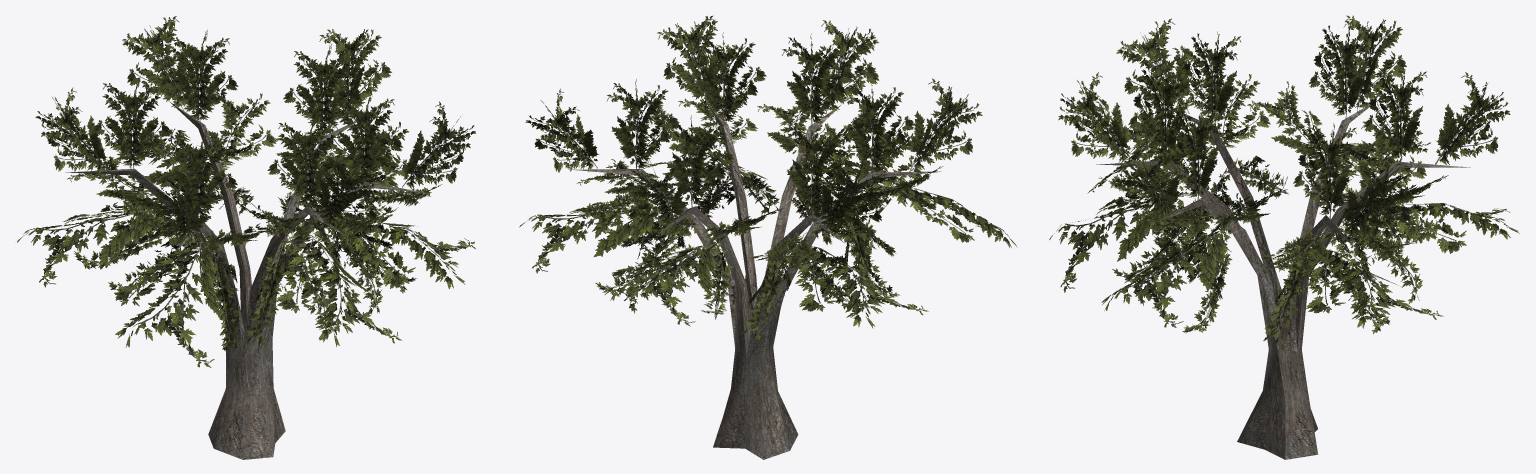
File: Sharp_Maple06.gltf
3 views of the same model, side by side, from view 1: azimuth 30°, elevation 25°; view 2: azimuth 150°, elevation 25°; view 3: azimuth 270°, elevation 25° (orthographic). The views are drawn at different scales.
Visible parts, largest first — view 1: Afol, Dfol, Bfol, Trunk, Cfol, Efol; view 2: Afol, Bfol, Trunk, Dfol, Cfol, Efol; view 3: Afol, Bfol, Cfol, Trunk, Dfol, Efol.
Part boxes in pixels (box(x1,y1,x2,y2)): Afol: box(92, 30, 403, 217); Dfol: box(17, 128, 475, 367); Bfol: box(35, 16, 475, 245); Trunk: box(65, 101, 429, 459); Cfol: box(67, 92, 442, 259); Efol: box(74, 179, 416, 351); Afol: box(606, 32, 915, 215); Bfol: box(525, 15, 982, 232); Trunk: box(572, 104, 941, 459); Dfol: box(519, 151, 1017, 328); Cfol: box(574, 92, 943, 271); Efol: box(595, 170, 900, 340); Afol: box(1128, 23, 1427, 219); Bfol: box(1058, 15, 1510, 238); Cfol: box(1098, 74, 1448, 281); Trunk: box(1096, 100, 1470, 459); Dfol: box(1049, 134, 1519, 329); Efol: box(1112, 153, 1444, 345).
Size of the model in its own units: 21.78 by 18.13 by 21.04.
Materials: 2 (2 with a texture image).
